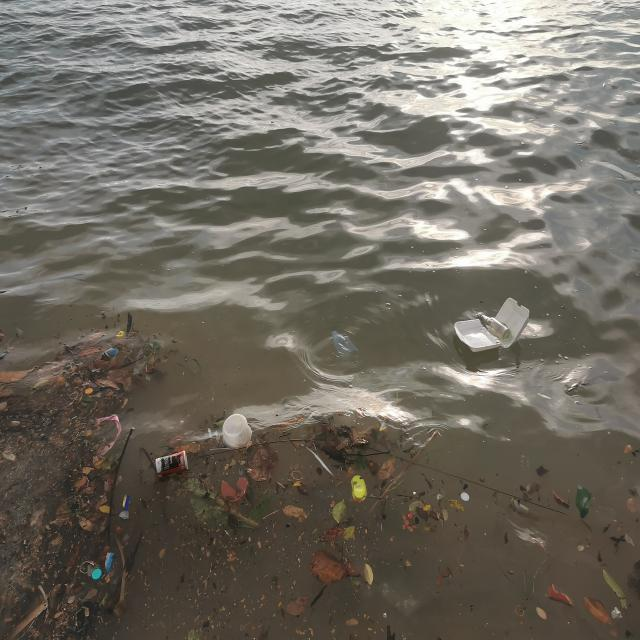can: (153, 449, 191, 475)
foam: (488, 294, 532, 349), (452, 318, 502, 354)
plastic: (473, 310, 513, 342), (330, 331, 360, 359)
plastic bottle: (220, 412, 255, 451), (166, 424, 221, 444)
unknow: (350, 474, 370, 503)
